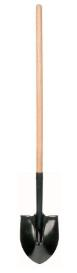PELLE: (0, 1, 67, 273)
